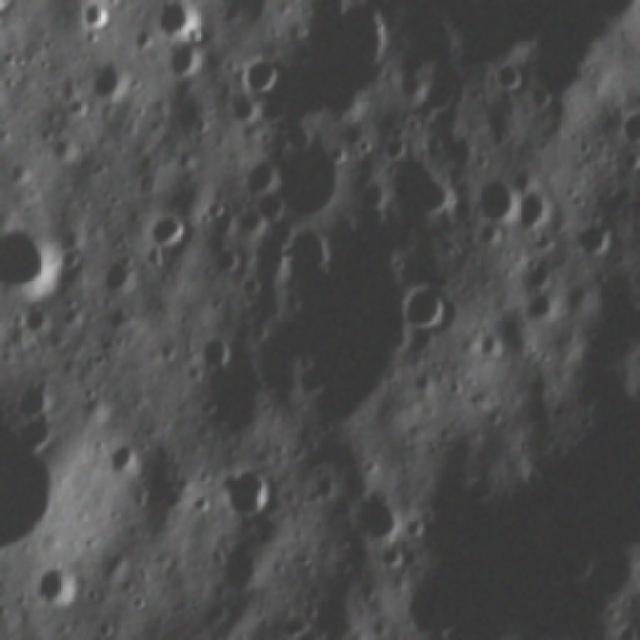crater: (264, 141, 354, 222), (387, 144, 462, 224), (0, 218, 65, 299), (397, 276, 457, 336), (32, 554, 88, 618), (222, 461, 278, 521), (354, 487, 408, 544), (464, 173, 516, 225), (93, 250, 144, 299), (238, 49, 290, 96), (13, 372, 59, 423), (150, 0, 204, 37), (237, 148, 281, 192), (169, 39, 211, 84), (573, 217, 619, 257), (93, 58, 136, 100), (516, 188, 556, 232), (148, 207, 192, 247), (188, 332, 242, 363), (110, 437, 148, 478), (492, 57, 528, 98), (518, 288, 557, 324), (74, 0, 115, 31), (615, 108, 640, 144), (614, 149, 640, 177), (192, 486, 214, 514)
